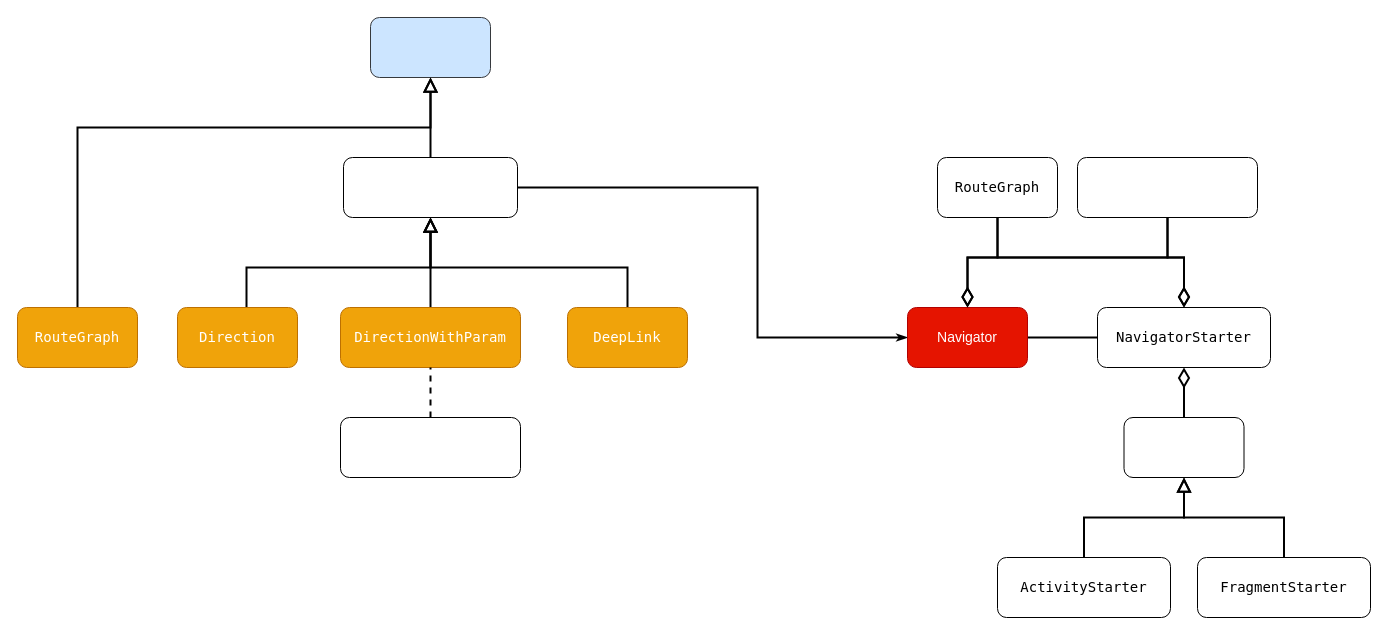
The diagram is 1388 pixels wide and 635 high, and some of its shapes have lost their labels. The centre of each missing label's shape, as x and y in pixels:
AbstractRoute: the point at 430,187
DeepLinkExecutor: the point at 1167,187
Destination: the point at 430,47
DirectionParam: the point at 430,447
Starter: the point at 1183,447
